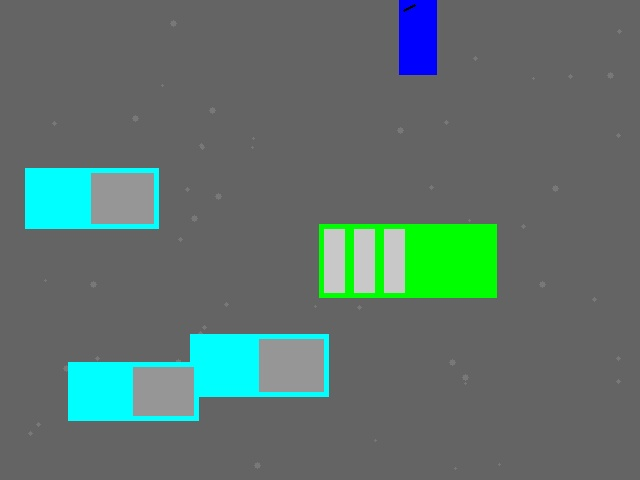bus: (319, 224, 496, 297)
motorcycle: (399, 0, 436, 74)
truck: (190, 334, 328, 396), (25, 168, 158, 228), (68, 362, 198, 420)
